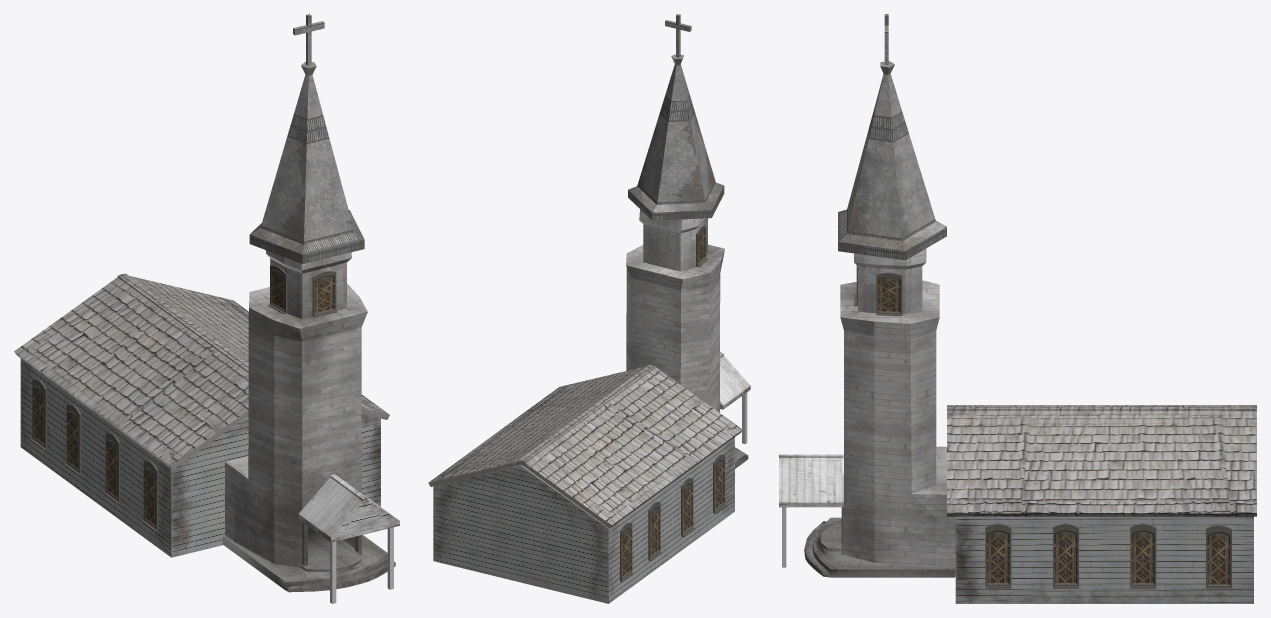
Rendered from church2.fbx.
The picture shows the model from 3 angles, left to right: view 1: azimuth 30°, elevation 25°; view 2: azimuth 150°, elevation 25°; view 3: azimuth 270°, elevation 25°; orthographic projection. The views are drawn at different scales.
Parts seen in each view (by area): view 1: Cube.011, Cube.001, Cube, Cone, Cube.024, Cube.012, Cube.002, Cube.010, Cube.009, Cube.008, Cube.007, Cube.015; view 2: Cube.001, Cube, Cube.011, Cone, Cube.012, Cube.007, Cube.009, Cube.010, Cube.008; view 3: Cube.001, Cube.011, Cube, Cone, Cube.024, Cube.012, Cube.005, Cube.003, Cube.006, Cube.004, Cube.016.
Boxes of the visible parts, x1,y1,x2,y2 form: Cube.011: (225,250,367,567); Cube.001: (14,273,389,469); Cube: (20,358,380,557); Cone: (249,14,364,263); Cube.024: (222,522,395,592); Cube.012: (298,474,399,542); Cube.002: (312,271,337,317); Cube.010: (30,379,47,450); Cube.009: (64,404,81,475); Cube.008: (103,433,120,503); Cube.007: (141,460,158,531); Cube.015: (268,265,287,314); Cube.001: (428,364,742,528); Cube: (433,437,734,603); Cube.011: (626,209,724,412); Cone: (628,14,724,220); Cube.012: (720,352,750,409); Cube.007: (713,454,726,513); Cube.009: (648,501,662,560); Cube.010: (620,522,633,581); Cube.008: (681,478,695,536); Cube.001: (947,405,1256,516); Cube.011: (840,249,955,576); Cube: (955,516,1253,603); Cone: (838,14,946,260); Cube.024: (804,475,954,577); Cube.012: (779,454,843,507); Cube.005: (1130,523,1156,588); Cube.003: (985,523,1011,588); Cube.006: (1206,524,1231,590); Cube.004: (1053,523,1078,588); Cube.016: (876,272,902,315).
Bounding box in the file's own units: 1300 × 3072 × 2475.
Materials: 9 (8 with a texture image).
